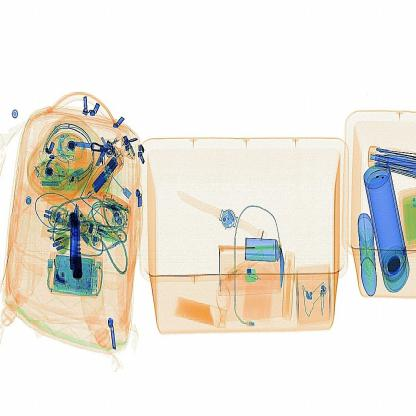pliers: (61, 205, 91, 283)
